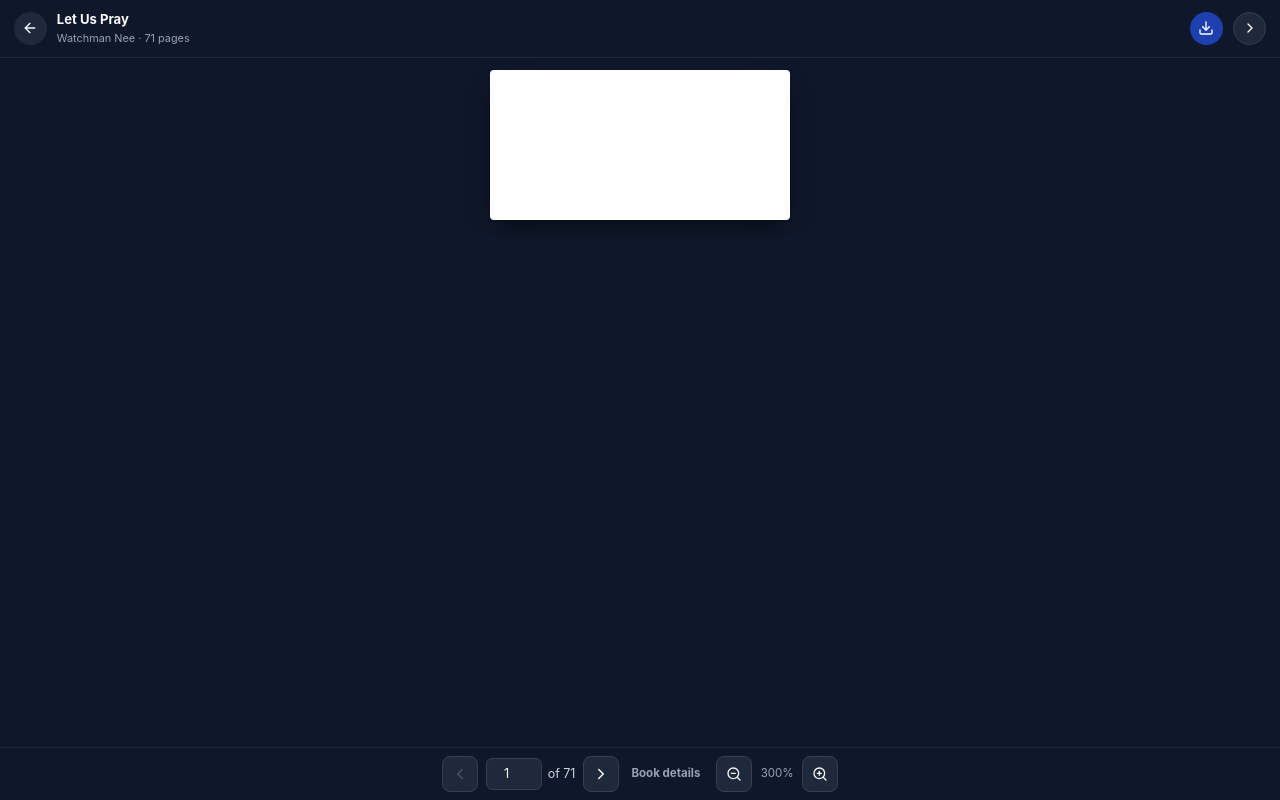
it: Book reader › jumps to a typed page number and ignores impossible ones
The width and height of the screenshot is (1280, 800).
Replace the text in the number field named "Page number" with "30" at (514, 774), box left=486, top=758, right=542, bottom=790
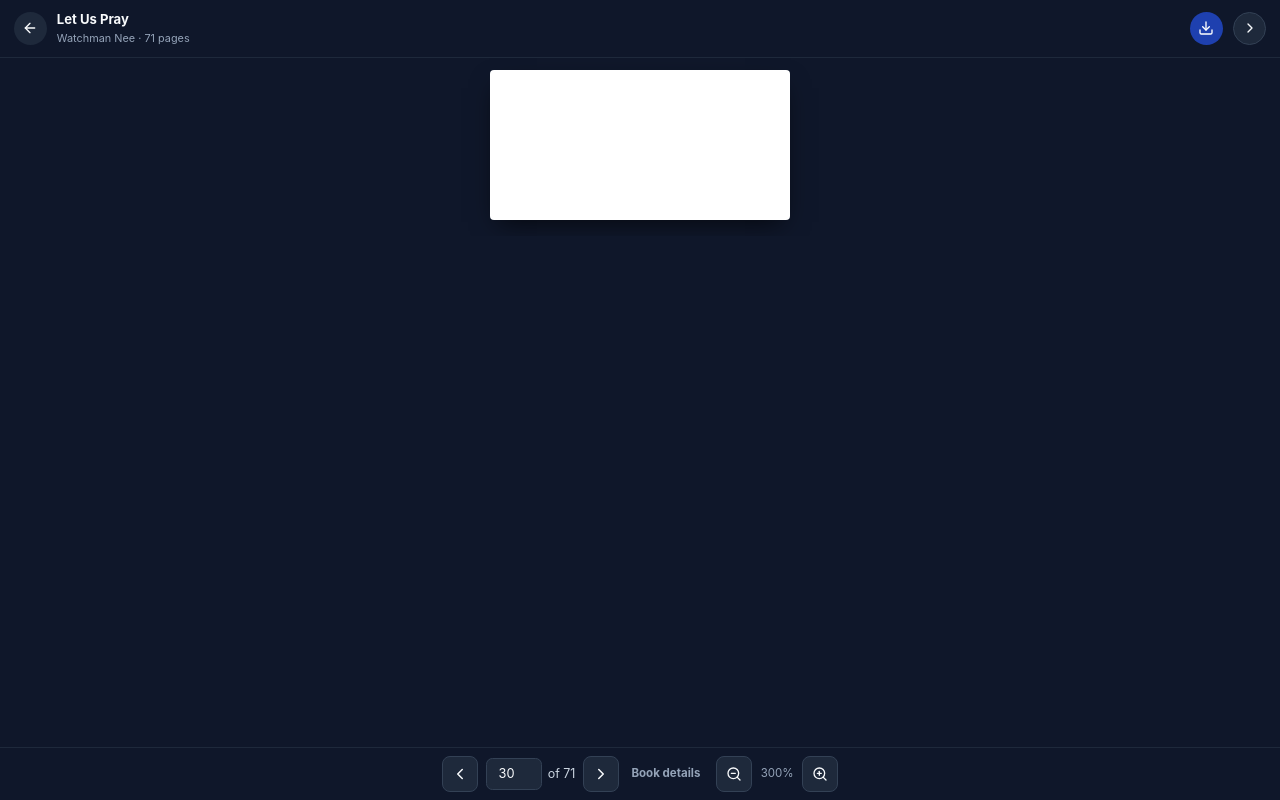
Replace the text in the number field named "Page number" with "900" at (514, 774), box left=486, top=758, right=542, bottom=790
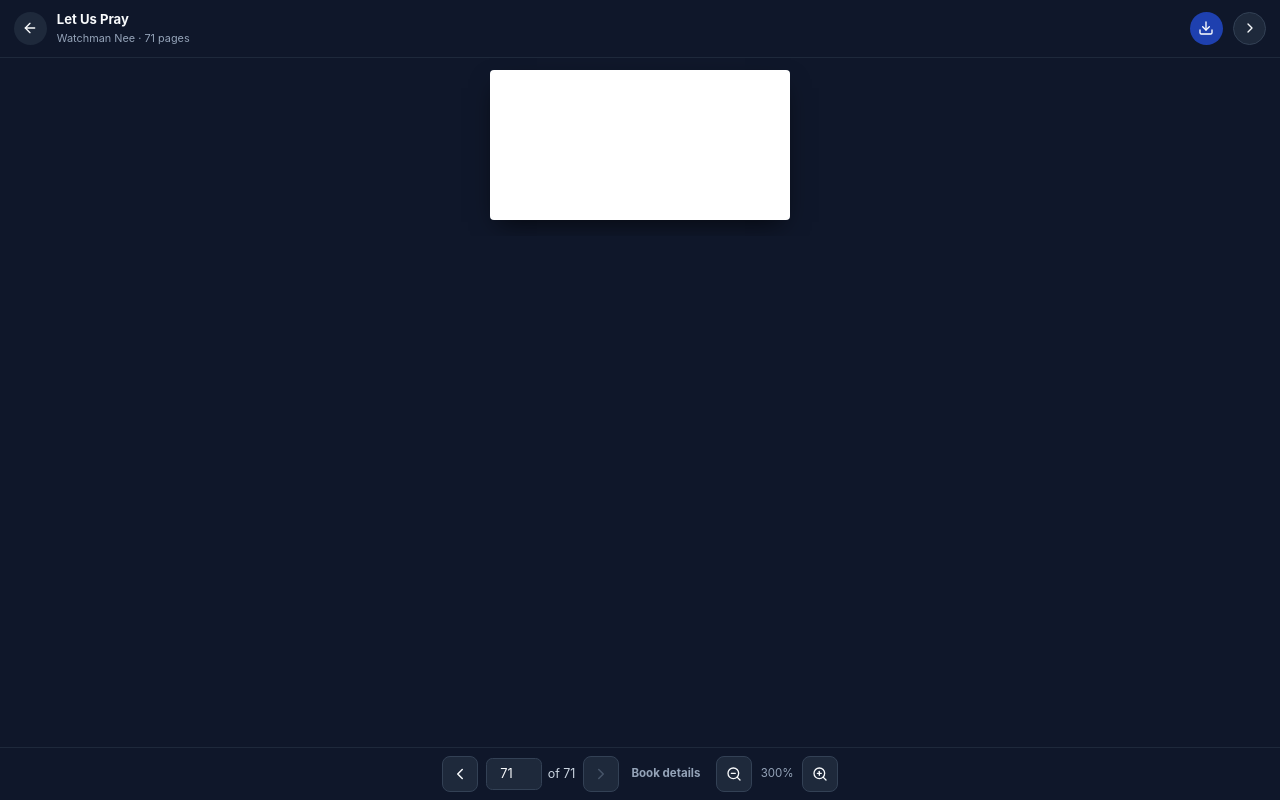
Check: the number field named "Page number" holds "71", box left=486, top=758, right=542, bottom=790
